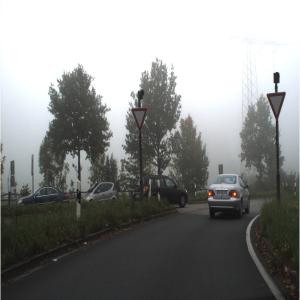give way: (267, 93, 287, 122), (132, 109, 148, 134)
